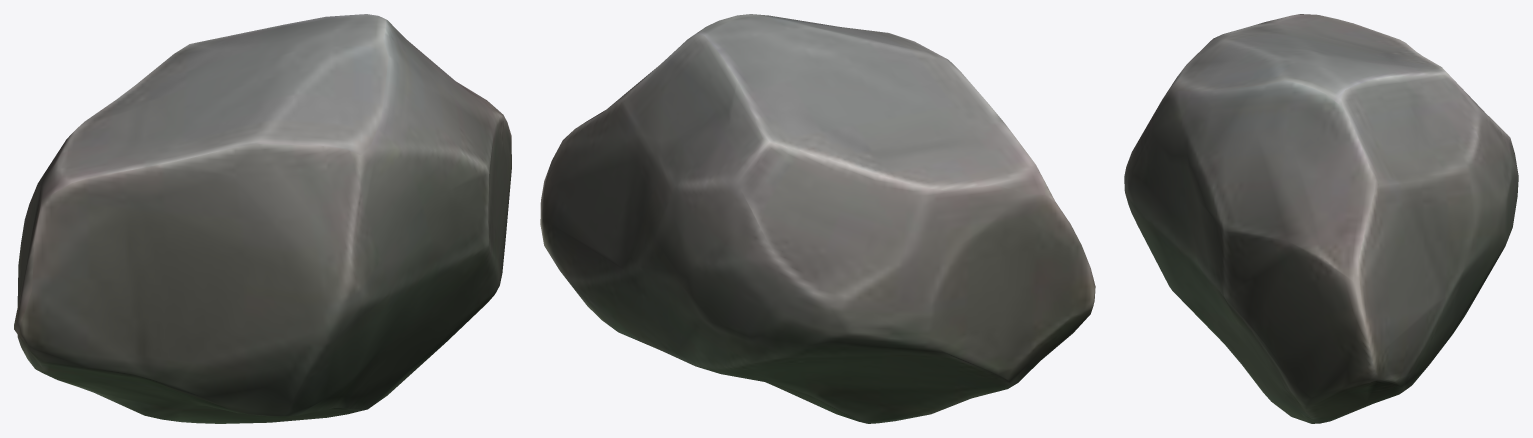
Rendered from sp-stein-4.glb.
3 views of the same model, side by side, from view 1: azimuth 30°, elevation 25°; view 2: azimuth 150°, elevation 25°; view 3: azimuth 270°, elevation 25° (orthographic). The views are drawn at different scales.
Parts seen in each view (by area): view 1: sp-stein-4; view 2: sp-stein-4; view 3: sp-stein-4.
Boxes of the visible parts, <box> form: sp-stein-4: <box>14,14,511,423</box>; sp-stein-4: <box>540,14,1095,423</box>; sp-stein-4: <box>1124,14,1518,423</box>.
Bounding box in the file's own units: 1.91 × 1.28 × 1.33.
Materials: 1 (1 with a texture image).
